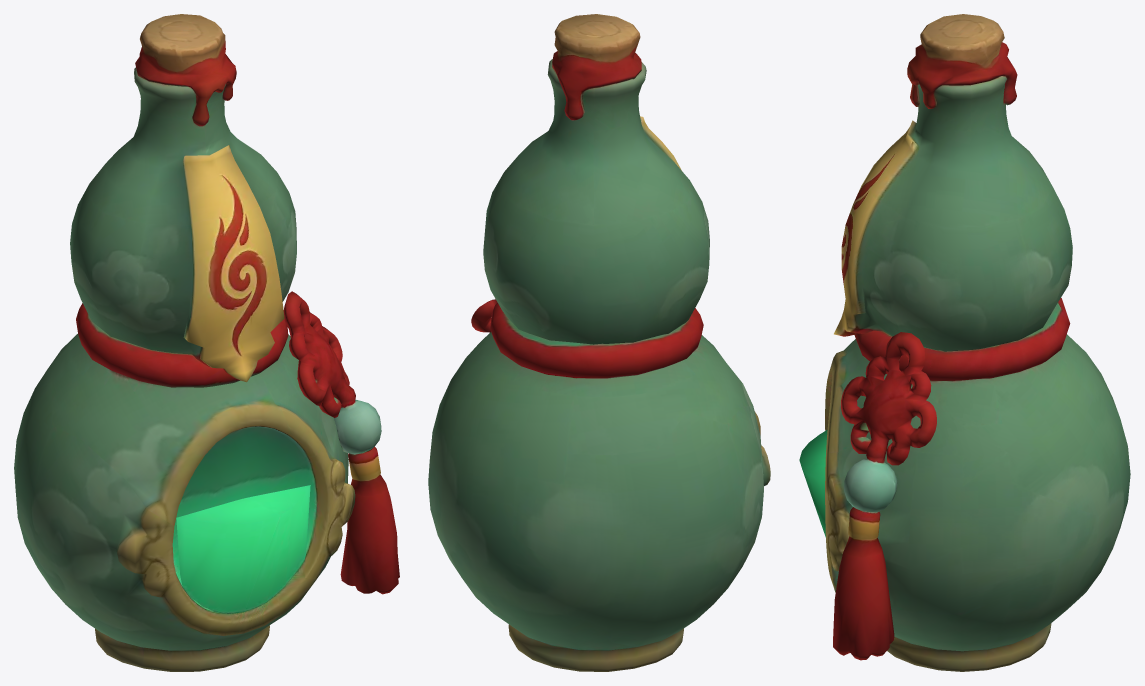
Rendered from SM_Prop_Potion.glb.
The picture shows the model from 3 angles, left to right: view 1: azimuth 30°, elevation 25°; view 2: azimuth 150°, elevation 25°; view 3: azimuth 270°, elevation 25°; orthographic projection.
Visible parts, largest first — view 1: SM_Prop_Potion_LOD0; view 2: SM_Prop_Potion_LOD0; view 3: SM_Prop_Potion_LOD0.
Boxes of the visible parts, x1,y1,x2,y2 form: SM_Prop_Potion_LOD0: (14,14,399,671); SM_Prop_Potion_LOD0: (428,14,770,671); SM_Prop_Potion_LOD0: (799,14,1130,671).
Size of the model in its own units: 0.2974 by 0.55 by 0.2714.
1 material, 1 textured.
